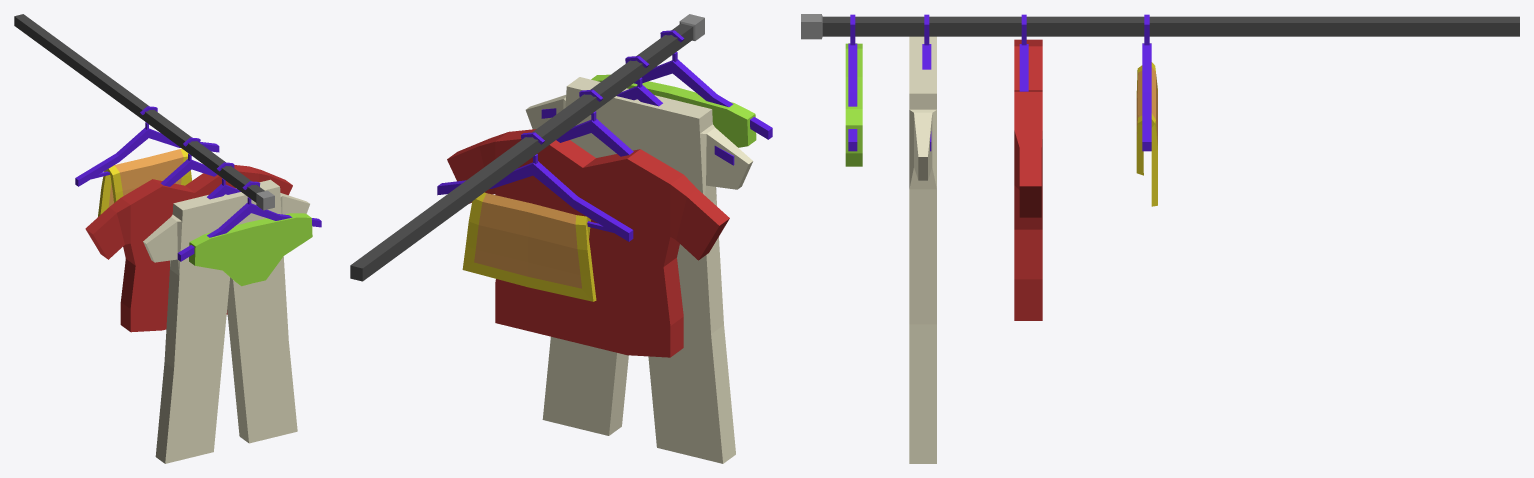
Rendered from clothes2.fbx.
3 views of the same model, side by side, from view 1: azimuth 30°, elevation 25°; view 2: azimuth 150°, elevation 25°; view 3: azimuth 270°, elevation 25° (orthographic). The views are drawn at different scales.
Visible parts, largest first — view 1: Cube.001; view 2: Cube.001; view 3: Cube.001.
Part boxes in pixels (bbox=[...]): Cube.001: bbox=[14, 14, 321, 463]; Cube.001: bbox=[350, 14, 772, 463]; Cube.001: bbox=[801, 14, 1519, 463].
Bounding box in the file's own units: 134 × 179 × 290.
